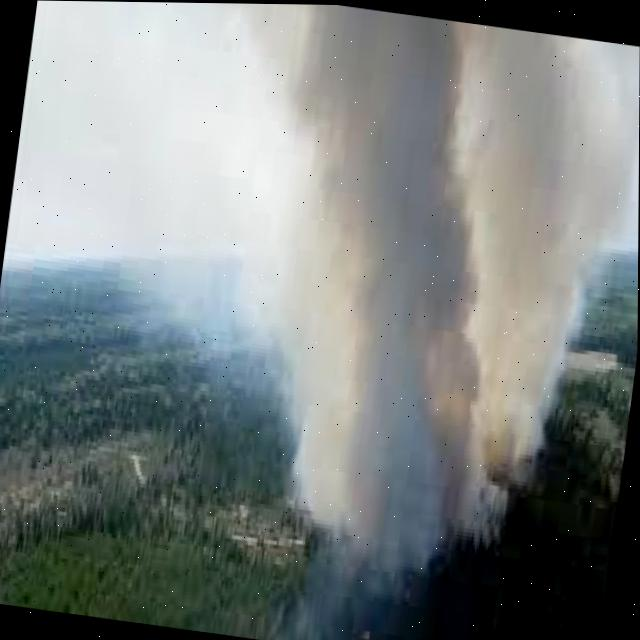smoke: (252, 3, 640, 640)
